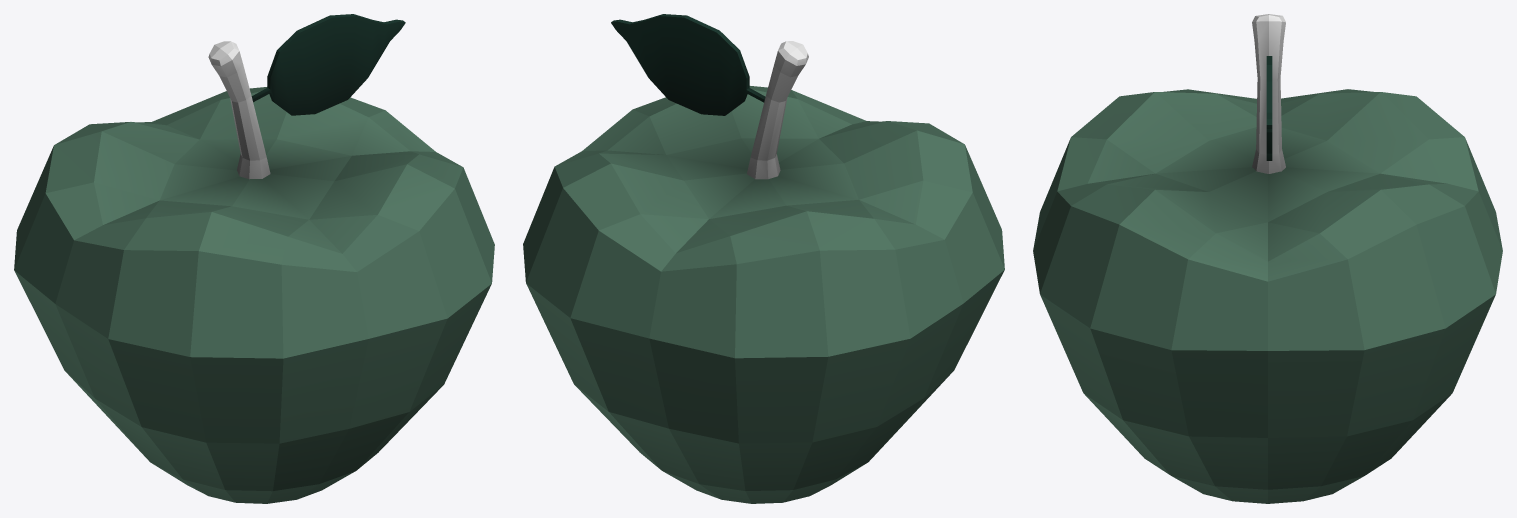
File: pq_pomme_verte.glb
3 views of the same model, side by side, from view 1: azimuth 30°, elevation 25°; view 2: azimuth 150°, elevation 25°; view 3: azimuth 270°, elevation 25° (orthographic). The views are drawn at different scales.
Visible parts, largest first — view 1: Apple_Green; view 2: Apple_Green; view 3: Apple_Green.
Part boxes in pixels (box(x1,y1,x2,y2)): Apple_Green: box(14, 14, 494, 503); Apple_Green: box(523, 14, 1004, 503); Apple_Green: box(1033, 14, 1502, 503).
Size of the model in its own units: 0.0802 by 0.0852 by 0.0799.
